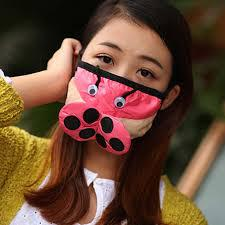OK: (81, 38, 169, 141)
